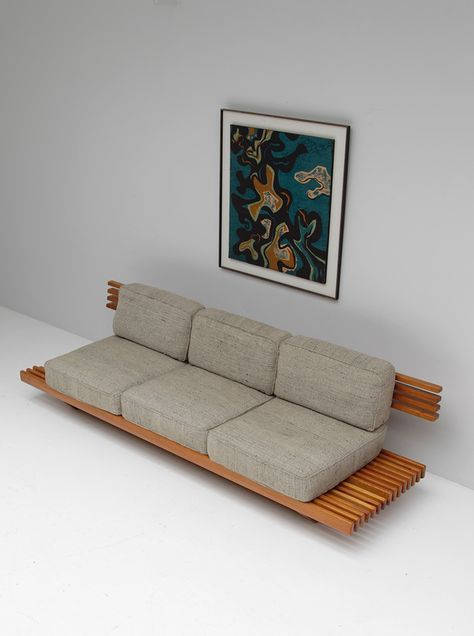3seatersofa: (21, 283, 440, 533)
backrest: (107, 281, 440, 423), (324, 404, 391, 427)
seat: (21, 336, 424, 533)
